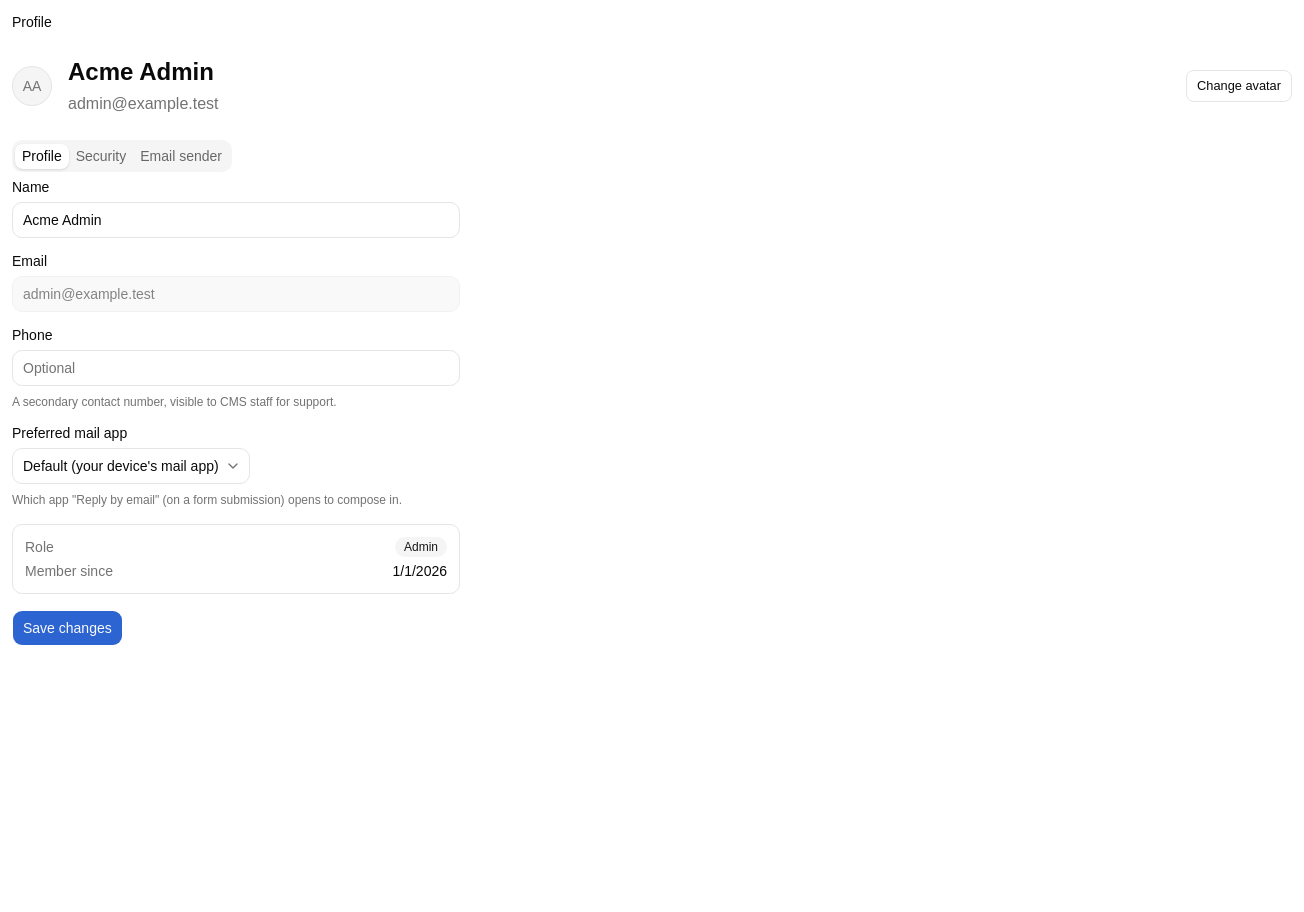
Test: ProfilePage › shows two-factor authentication as not enabled by default
Step 1. Click the tab "Security" → [101, 156], box x1=69 y1=144 x2=133 y2=168
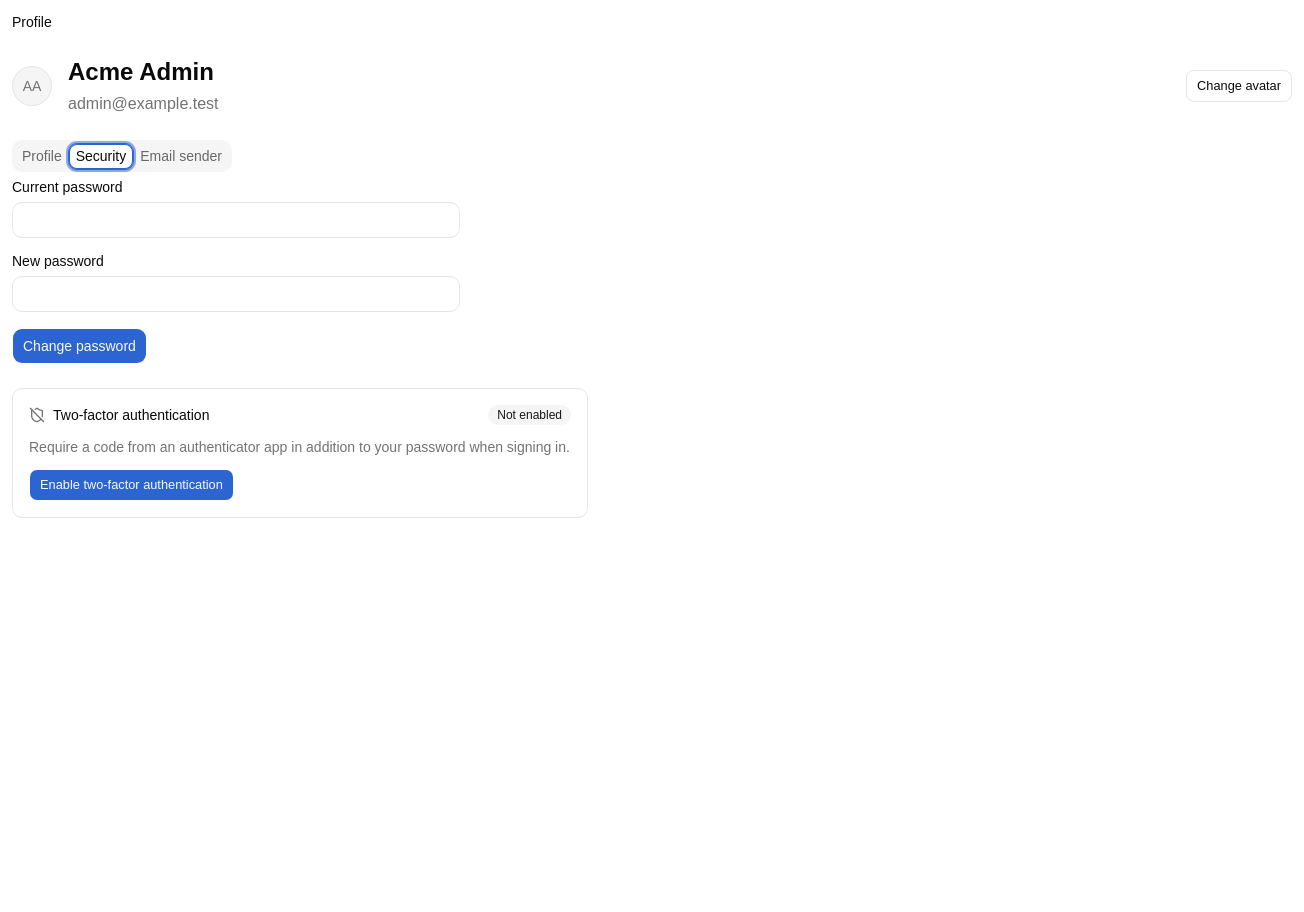
Check: the text "Not enabled" is shown, box x1=488 y1=405 x2=571 y2=425
